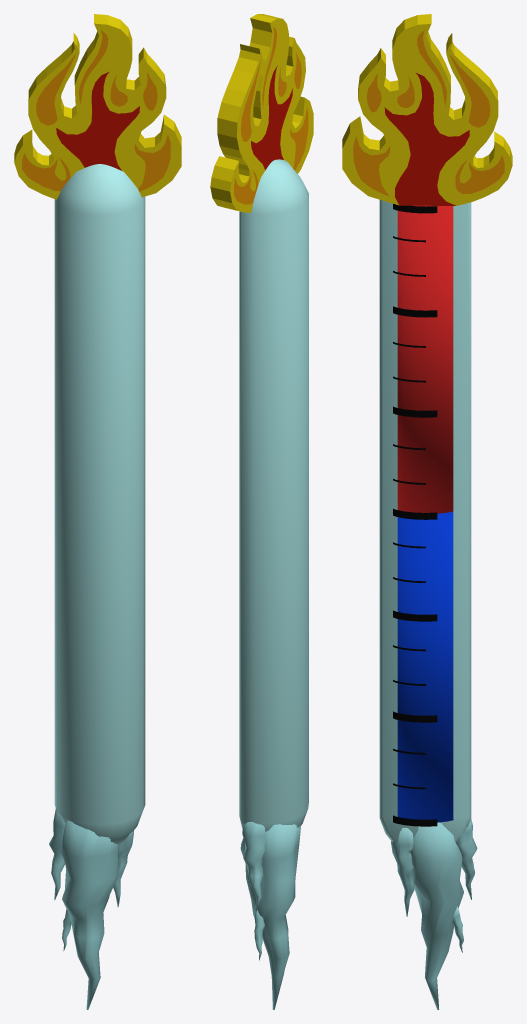
The model's file is Thermometer.fbx.
3 views of the same model, side by side, from view 1: azimuth 90°, elevation 25°; view 2: azimuth 150°, elevation 25°; view 3: azimuth 270°, elevation 25° (orthographic).
Parts seen in each view (by area): view 1: Base, Flame, Icicles; view 2: Base, Flame, Icicles; view 3: Base, Flame, ColdScale, HotScale, Icicles.
Boxes of the visible parts, left/top/right/bottom form: Base: left=54, top=164, right=145, bottom=844; Flame: left=14, top=14, right=181, bottom=199; Icicles: left=49, top=808, right=133, bottom=1009; Base: left=239, top=159, right=308, bottom=831; Flame: left=210, top=14, right=313, bottom=212; Icicles: left=240, top=822, right=301, bottom=1009; Base: left=379, top=200, right=471, bottom=853; Flame: left=342, top=14, right=512, bottom=205; ColdScale: left=397, top=511, right=453, bottom=822; HotScale: left=397, top=205, right=453, bottom=513; Icicles: left=391, top=819, right=477, bottom=1009.
Size of the model in its own units: 135 by 2399 by 370.
